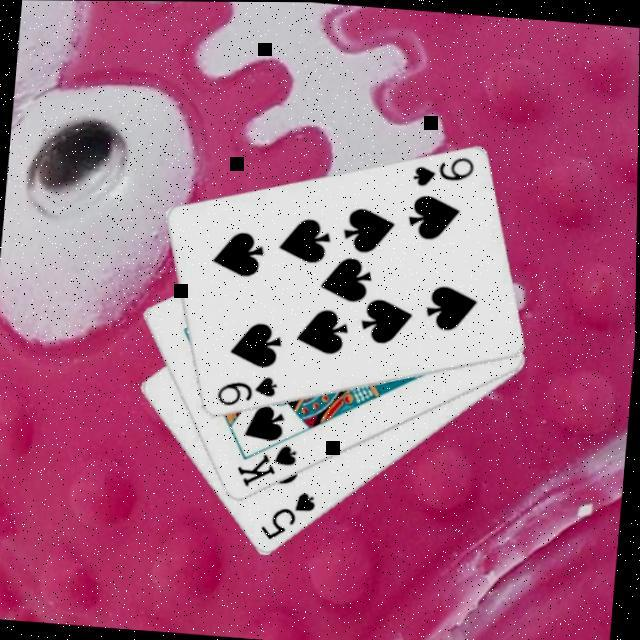5S: (256, 486, 320, 546)
9S: (212, 370, 281, 413), (408, 150, 477, 193)
KS: (232, 438, 301, 494)
